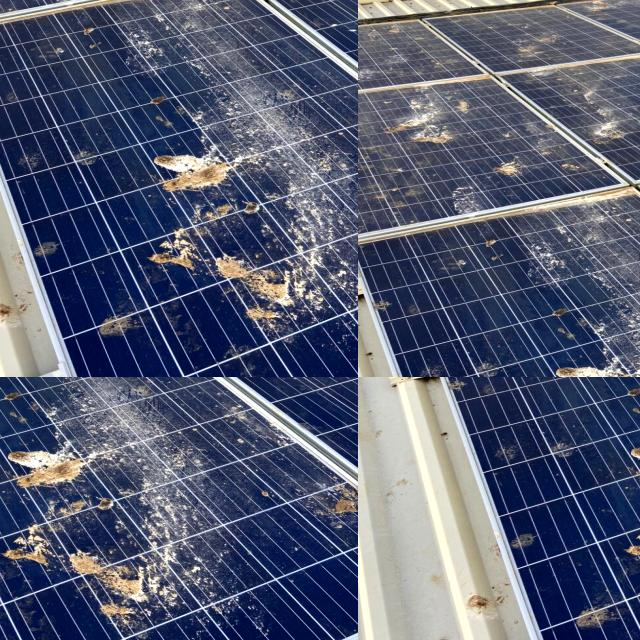bird: (449, 377, 548, 405), (567, 612, 639, 640), (581, 377, 640, 407), (536, 377, 606, 395)
crack: (358, 0, 640, 159)
dust: (0, 91, 214, 288), (171, 0, 358, 120), (261, 0, 358, 72)
panel: (21, 377, 83, 398), (0, 377, 46, 392), (107, 377, 144, 391), (46, 377, 103, 385), (0, 377, 31, 389), (0, 377, 41, 386), (0, 377, 25, 391), (0, 377, 24, 385), (0, 377, 24, 384), (0, 377, 31, 382), (44, 377, 62, 385), (0, 377, 18, 384), (0, 377, 23, 382), (0, 377, 19, 381)
